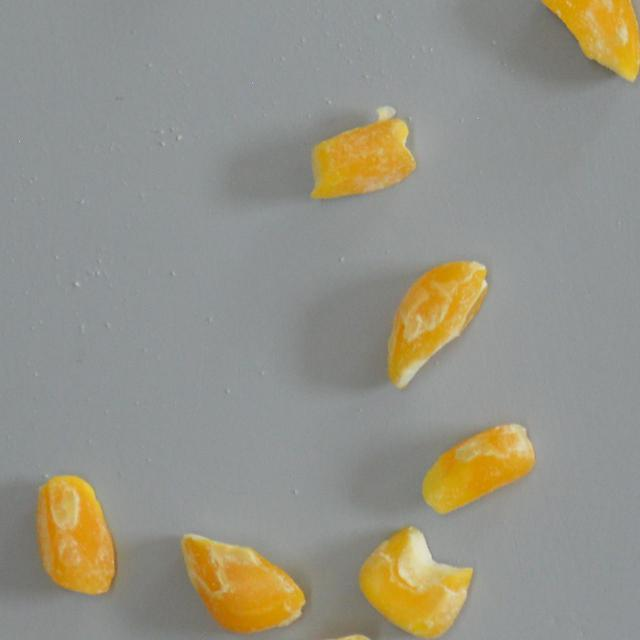dañado: (374, 249, 492, 391), (170, 526, 308, 635), (356, 522, 479, 640), (418, 414, 541, 520), (306, 100, 422, 206), (34, 466, 118, 600), (536, 0, 640, 87)
